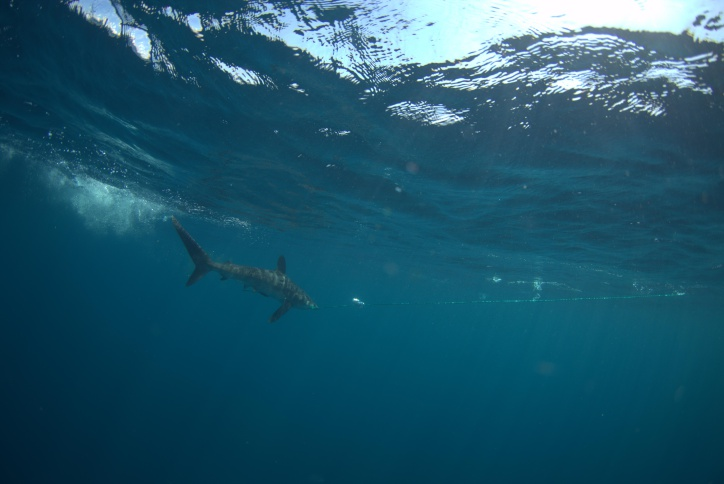Sedoso: (160, 203, 330, 332)
